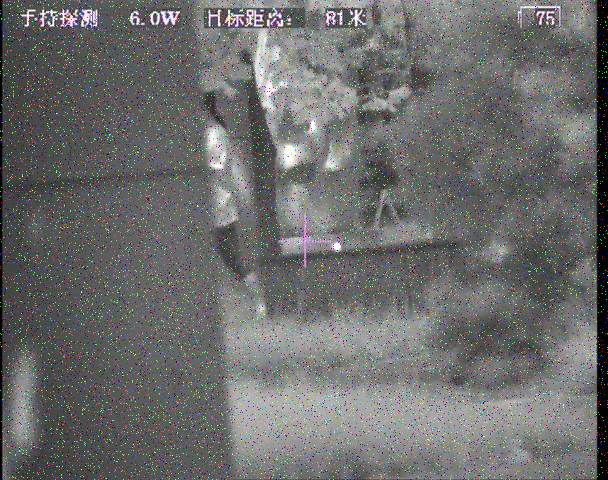my: (331, 240, 342, 251)
